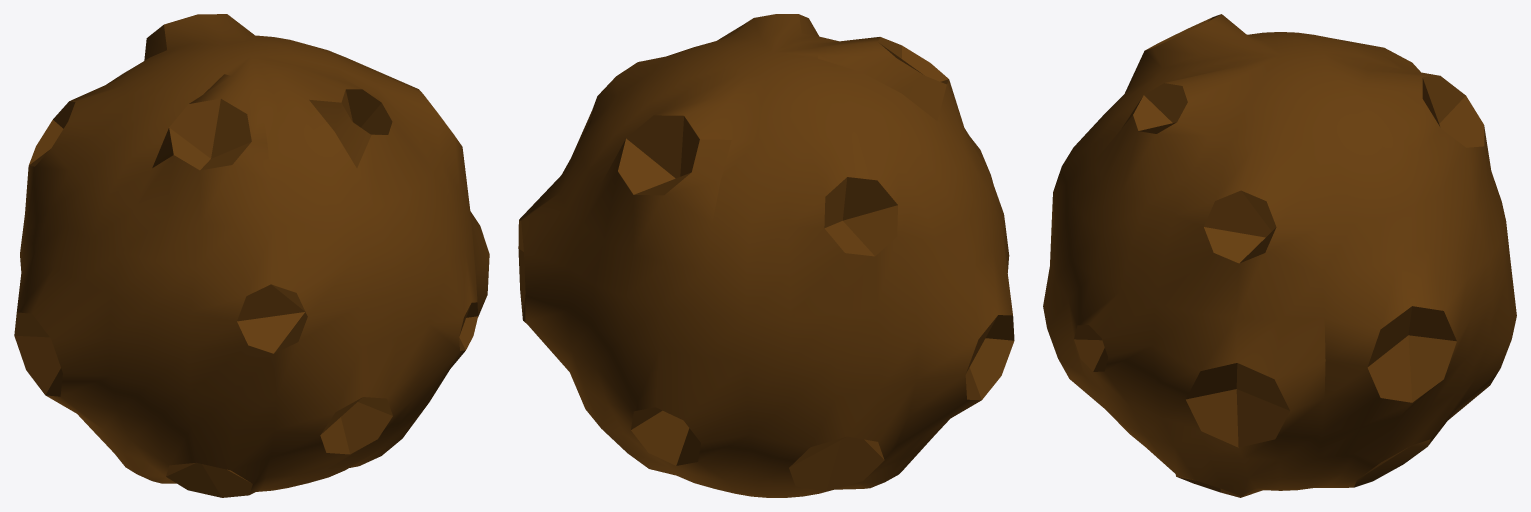
File: rock.fbx
3 renders of one model, left to right at view 1: azimuth 30°, elevation 25°; view 2: azimuth 150°, elevation 25°; view 3: azimuth 270°, elevation 25°, orthographic. The views are drawn at different scales.
Parts seen in each view (by area): view 1: Esfera.012; view 2: Esfera.012; view 3: Esfera.012.
Boxes of the visible parts, x1,y1,x2,y2 form: Esfera.012: [14, 14, 489, 497]; Esfera.012: [518, 14, 1014, 497]; Esfera.012: [1043, 14, 1516, 497].
Bounding box in the file's own units: 7103 × 6528 × 6726.
